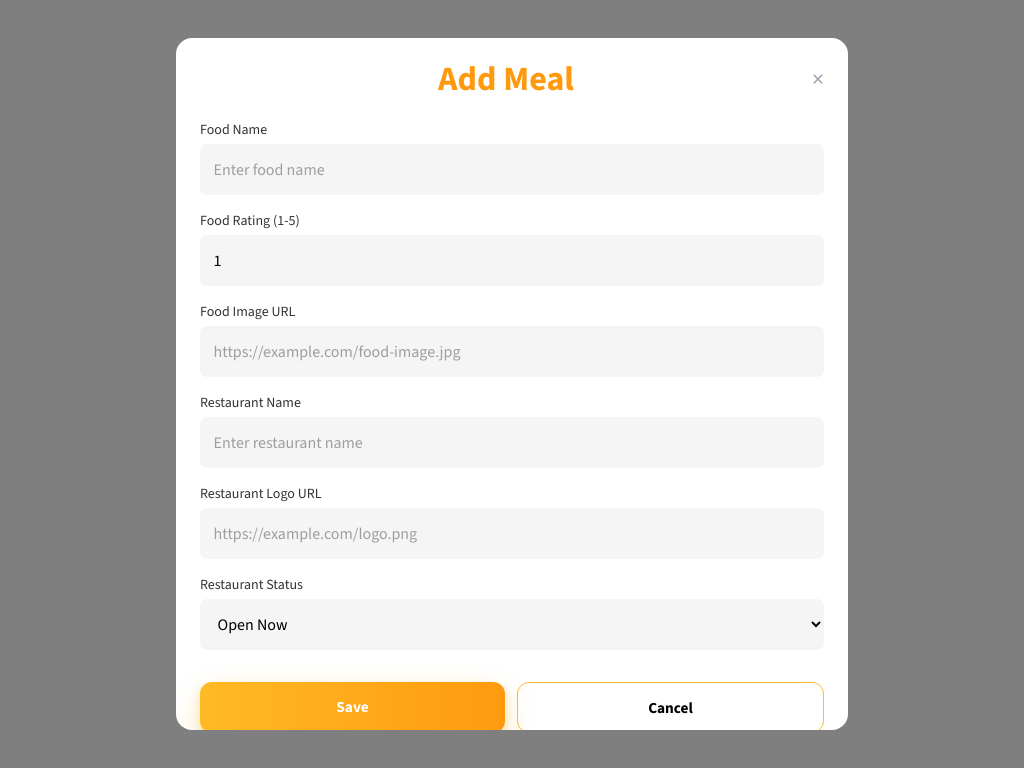
Scenario: FoodModal Component › shows validation error for empty food name
// Try to submit without filling food name
What coordinates should you click on to do the following:
click the button "Save"
I would click on:
 (352, 708)
Its box is [200, 682, 505, 733].
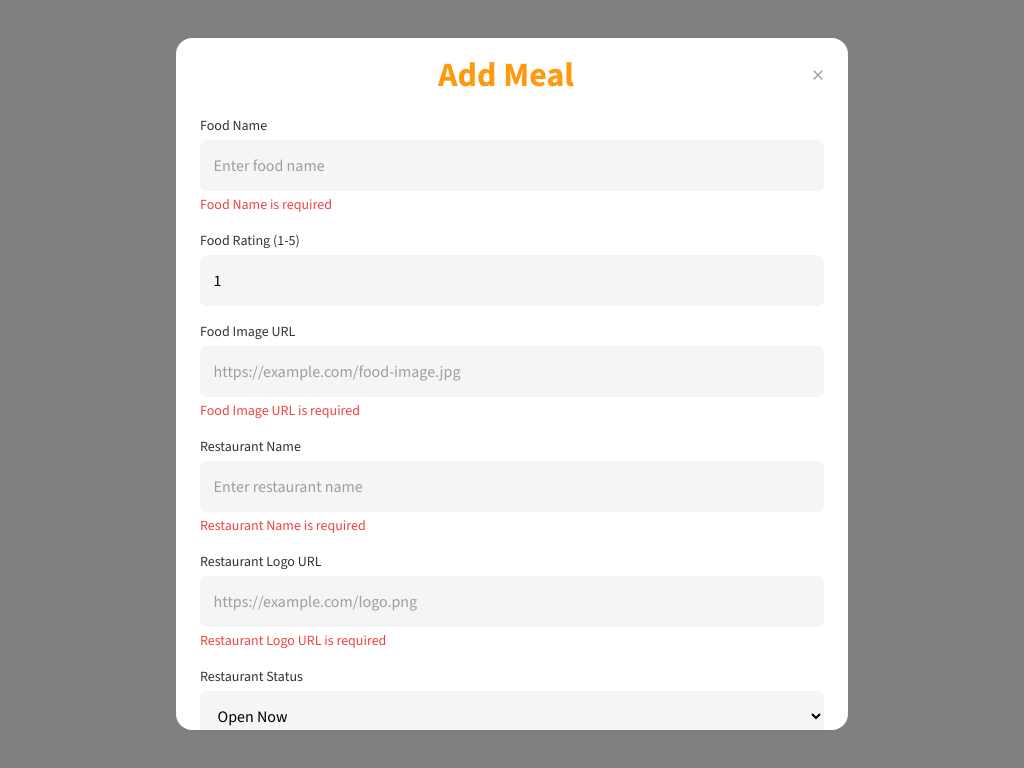
Expected: the text "Food Name is required" is shown, [200, 195, 332, 214]
